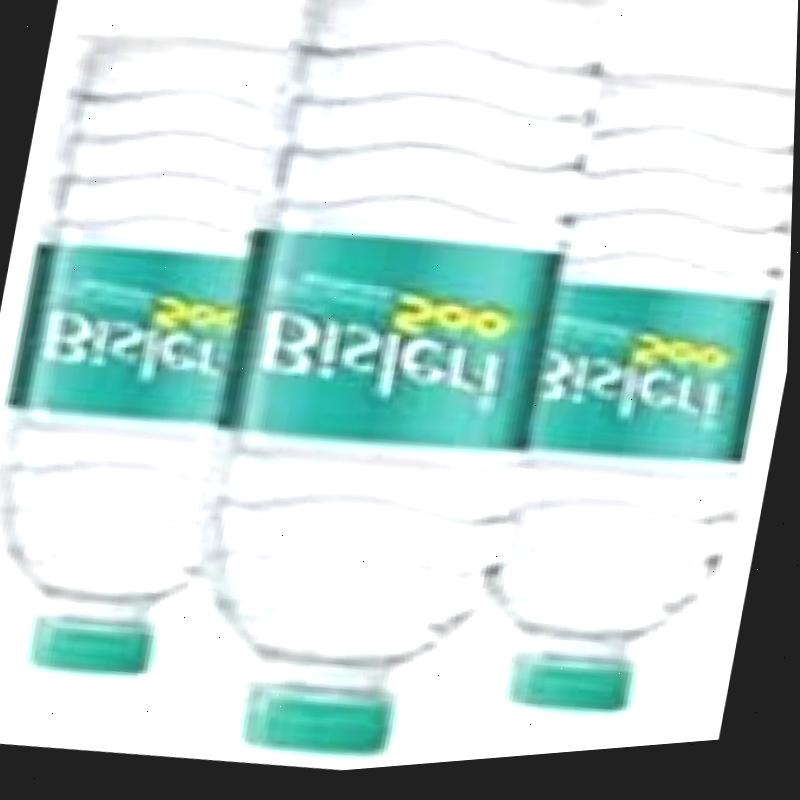botella: (168, 0, 612, 788), (472, 61, 797, 749), (0, 19, 305, 697)
